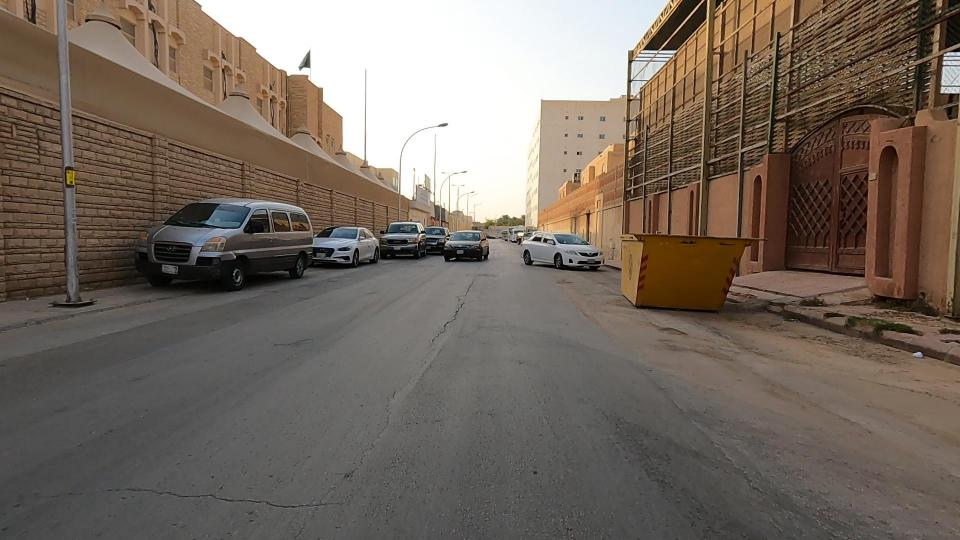GARBAGE: (520, 160, 852, 407)
POTHOLES: (394, 252, 524, 383)
